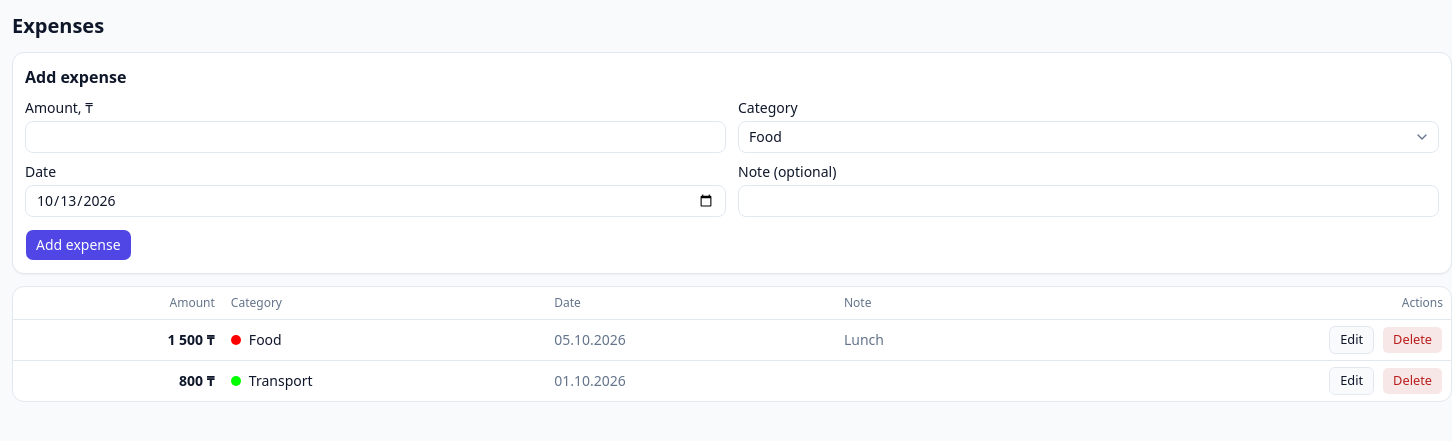
Test: ExpensesPage › rejects a negative amount inline without a request
Expected: the table is shown, [13,287,1451,400]
Type "-5" into the field labelled "Amount, ₸" at (376, 137), box [25,121,726,153]
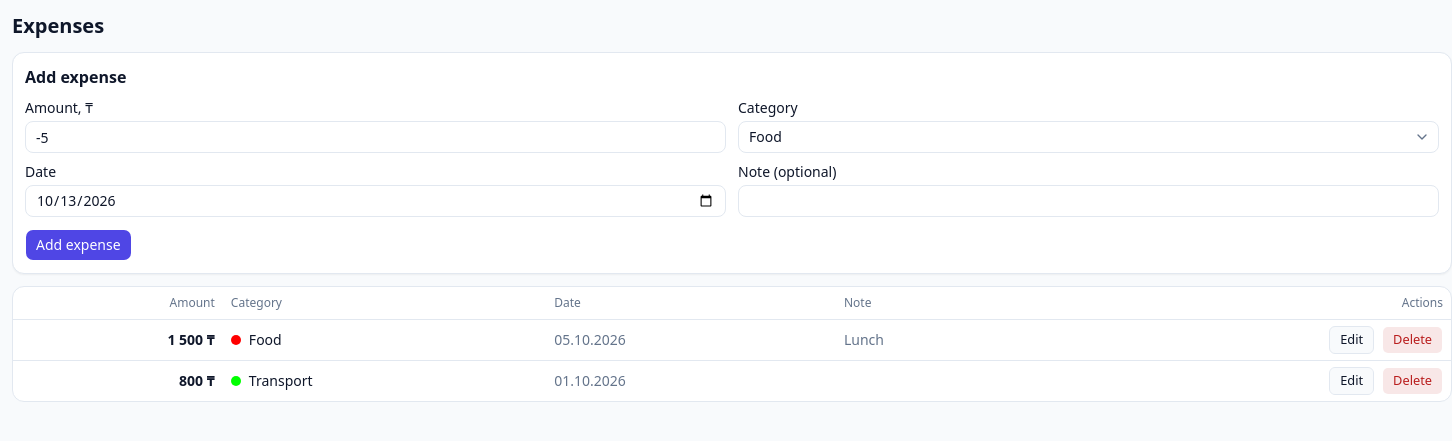
Click the button "Add expense" at (78, 245), box [25,229,132,261]
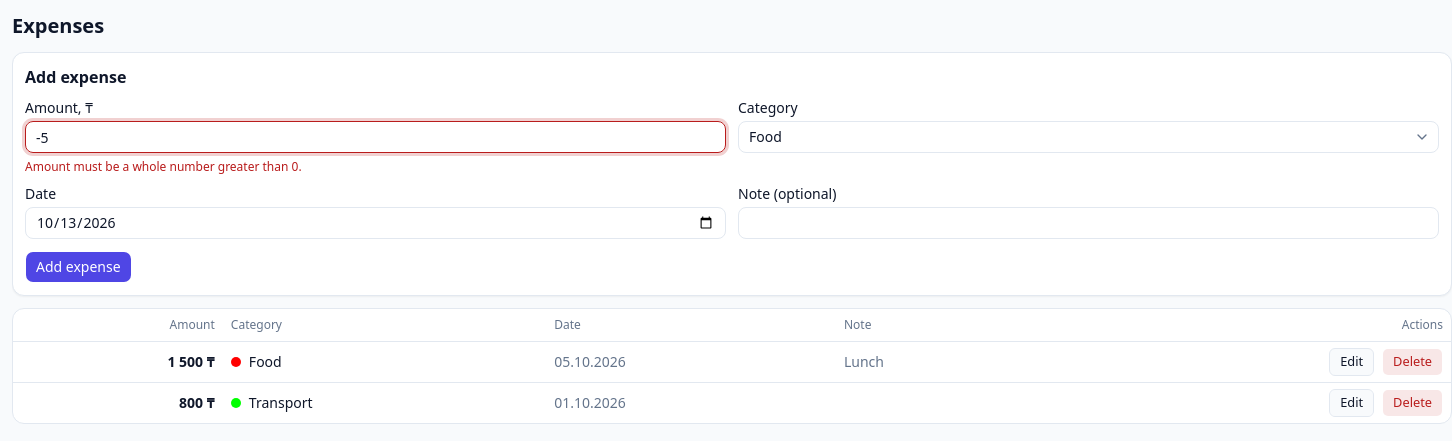
Expected: the text "Amount must be a whole number greater than 0." is shown, [25,158,302,175]
